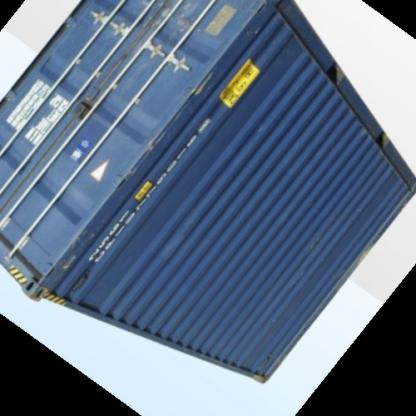Damage: (152, 1, 210, 41), (55, 222, 99, 274), (303, 233, 332, 257)
